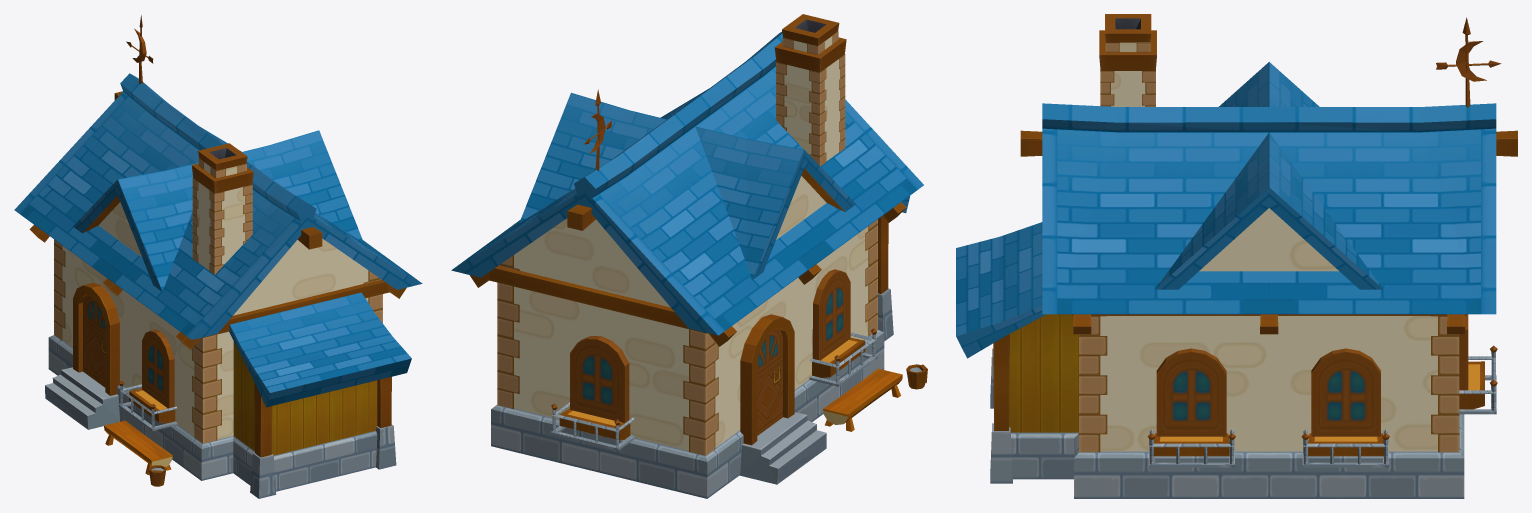
The model's file is HOS0110005.FBX.
The picture shows the model from 3 angles, left to right: view 1: azimuth 30°, elevation 25°; view 2: azimuth 150°, elevation 25°; view 3: azimuth 270°, elevation 25°; orthographic projection. The views are drawn at different scales.
Visible parts, largest first — view 1: smHOS0110005; view 2: smHOS0110005; view 3: smHOS0110005.
Boxes of the visible parts, x1=… form: smHOS0110005: x1=14, y1=15, x2=422, y2=498; smHOS0110005: x1=451, y1=14, x2=927, y2=498; smHOS0110005: x1=956, y1=14, x2=1517, y2=498.
Bounding box in the file's own units: 7.01 × 8.81 × 10.56.
1 material, 1 textured.
